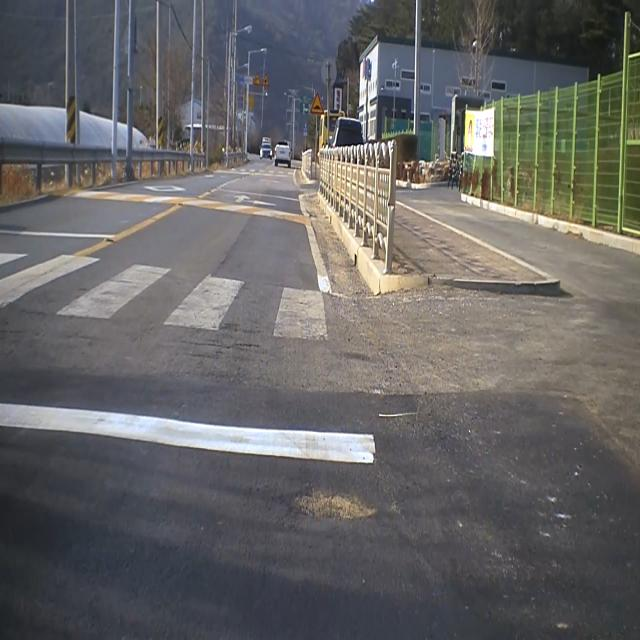Pothole: (277, 478, 389, 536)
